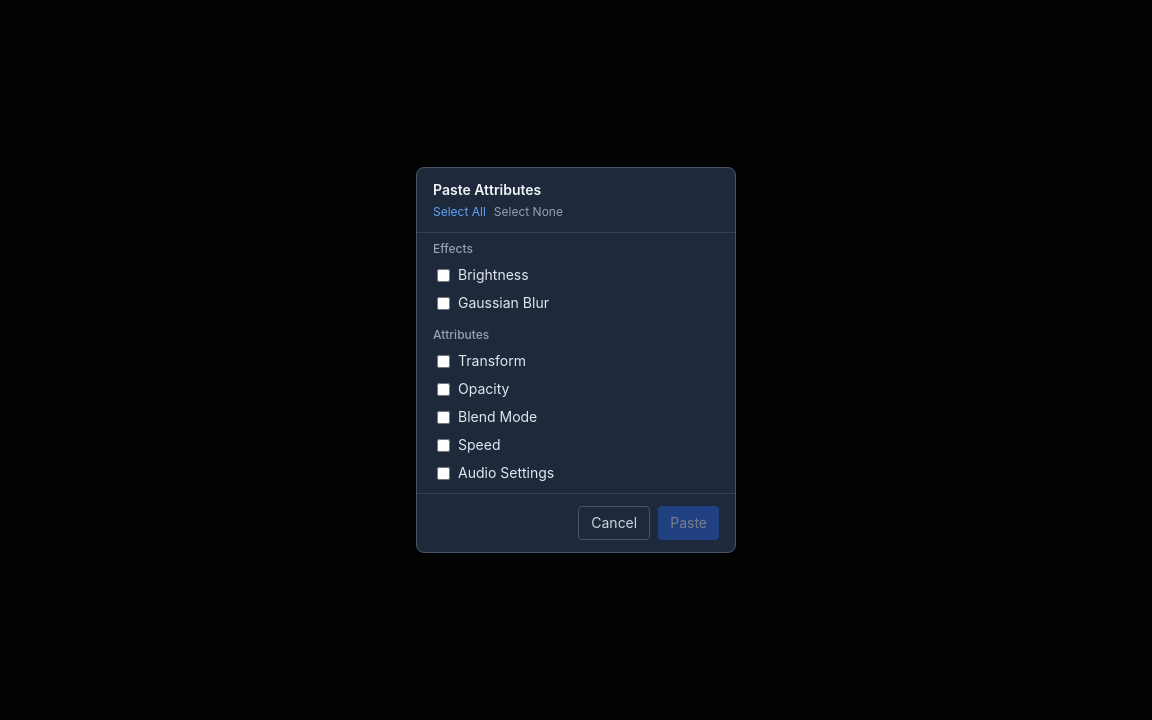
PasteAttributesDialog › button state › should enable Paste button when at least one item is selected
Click the checkbox labelled "Transform" at (444, 361), box [437,354,450,368]
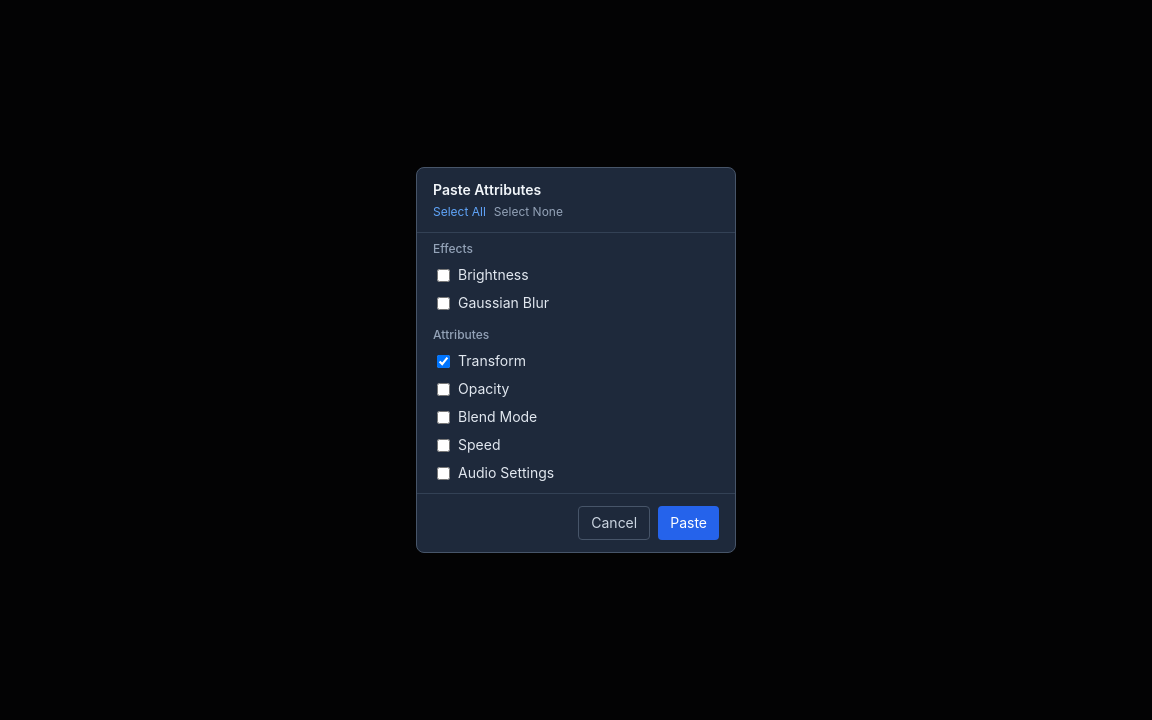
Check: the button "Paste" is enabled, box [658,506,719,540]
